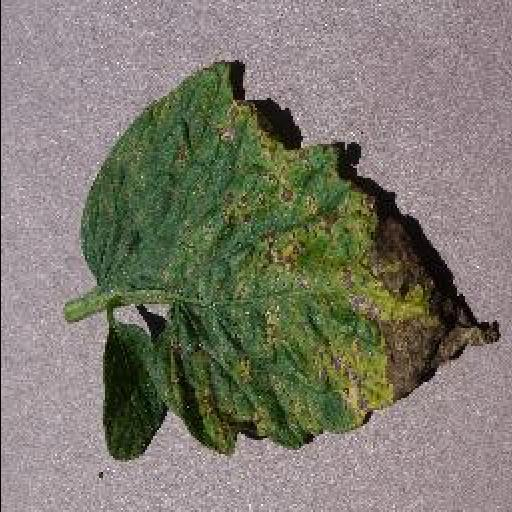disease_tomato: (82, 60, 498, 464)
